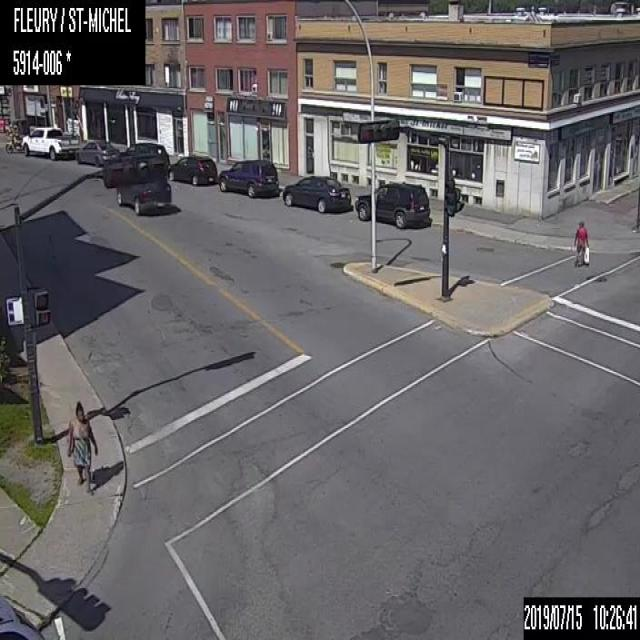pedestrian: (66, 400, 98, 493), (573, 220, 589, 267)
vehicle: (354, 179, 431, 228), (281, 172, 351, 221), (220, 154, 278, 199), (114, 173, 173, 216), (166, 148, 218, 190), (0, 592, 45, 639), (20, 122, 74, 158), (120, 141, 169, 170), (75, 136, 116, 167), (4, 126, 22, 154)
